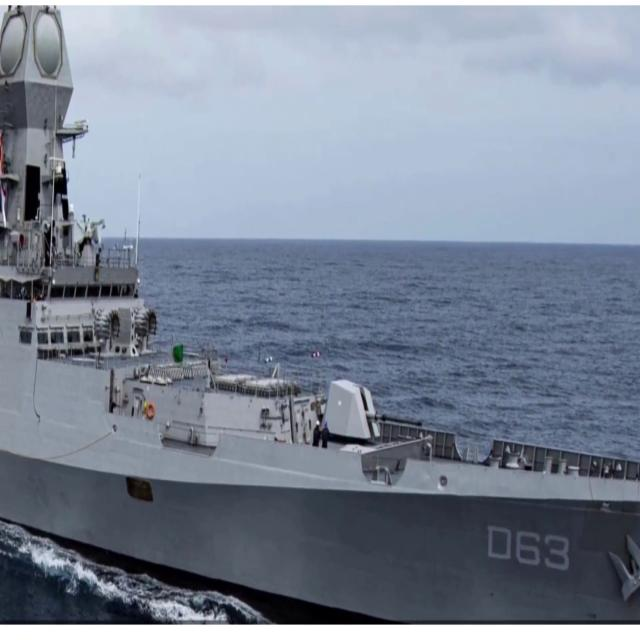OCR: (484, 516, 574, 578)
